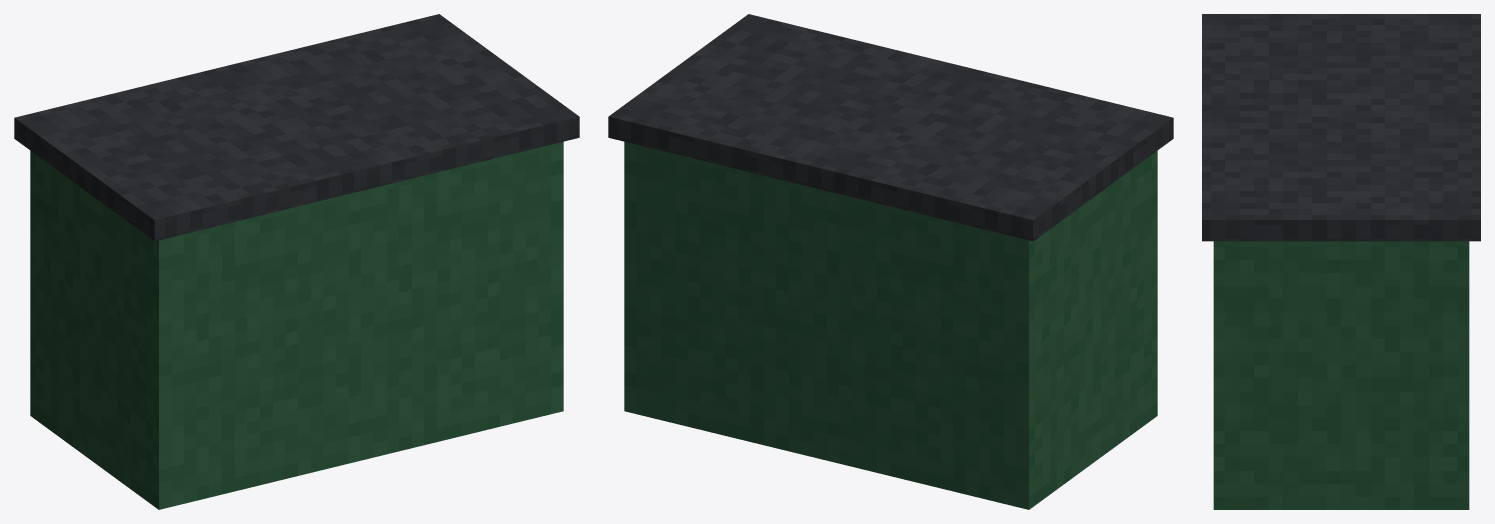
File: env_dumpster.glb
The picture shows the model from 3 angles, left to right: view 1: azimuth 30°, elevation 25°; view 2: azimuth 150°, elevation 25°; view 3: azimuth 270°, elevation 25°; orthographic projection.
Parts seen in each view (by area): view 1: env_dumpster; view 2: env_dumpster; view 3: env_dumpster.
Part boxes in pixels (<box>): env_dumpster: <box>14,14,579,509</box>; env_dumpster: <box>608,14,1173,509</box>; env_dumpster: <box>1202,14,1480,509</box>.
Size of the model in its own units: 2.1 by 1.4 by 1.2.
Materials: 2 (2 with a texture image).
